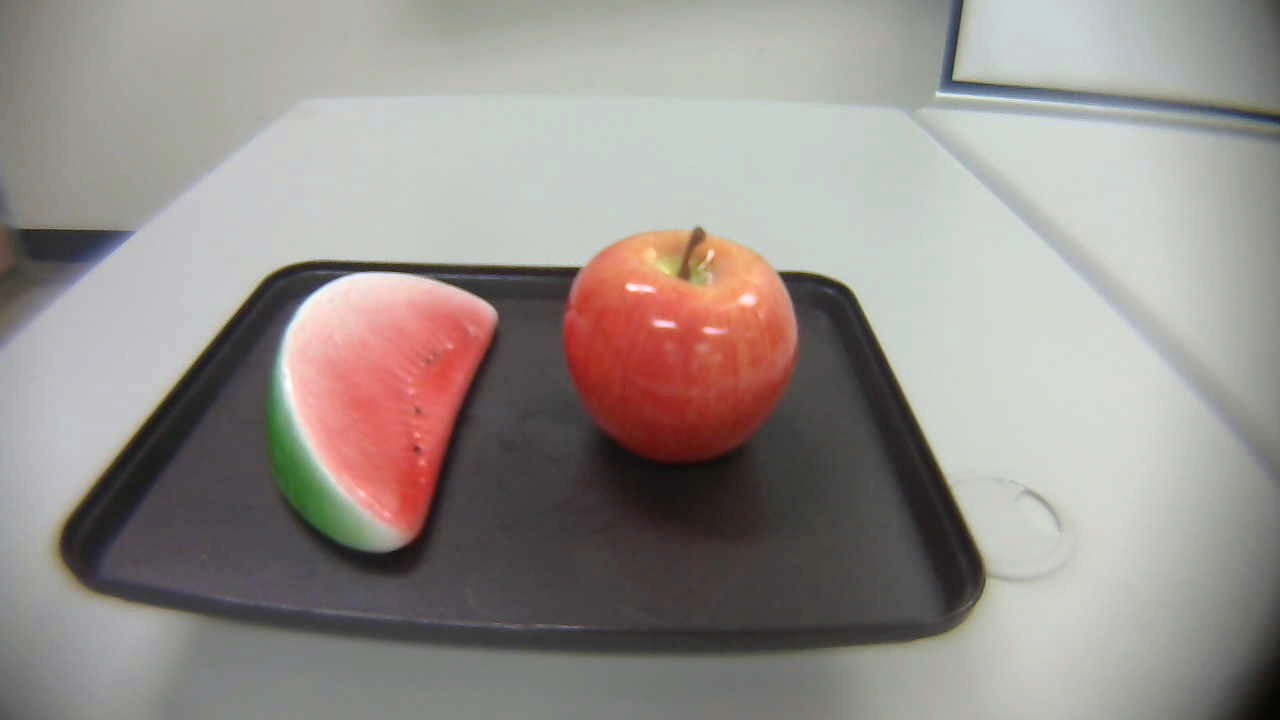red apple: (559, 221, 802, 464)
water melon: (272, 256, 502, 555)
